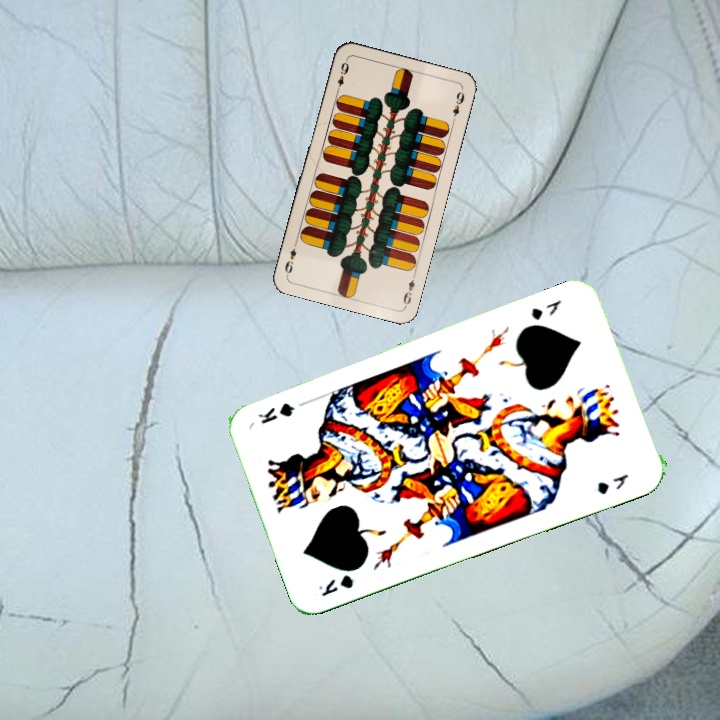E9: (332, 56, 351, 96), (399, 269, 418, 309)
GK: (314, 570, 356, 599), (527, 295, 564, 323)
